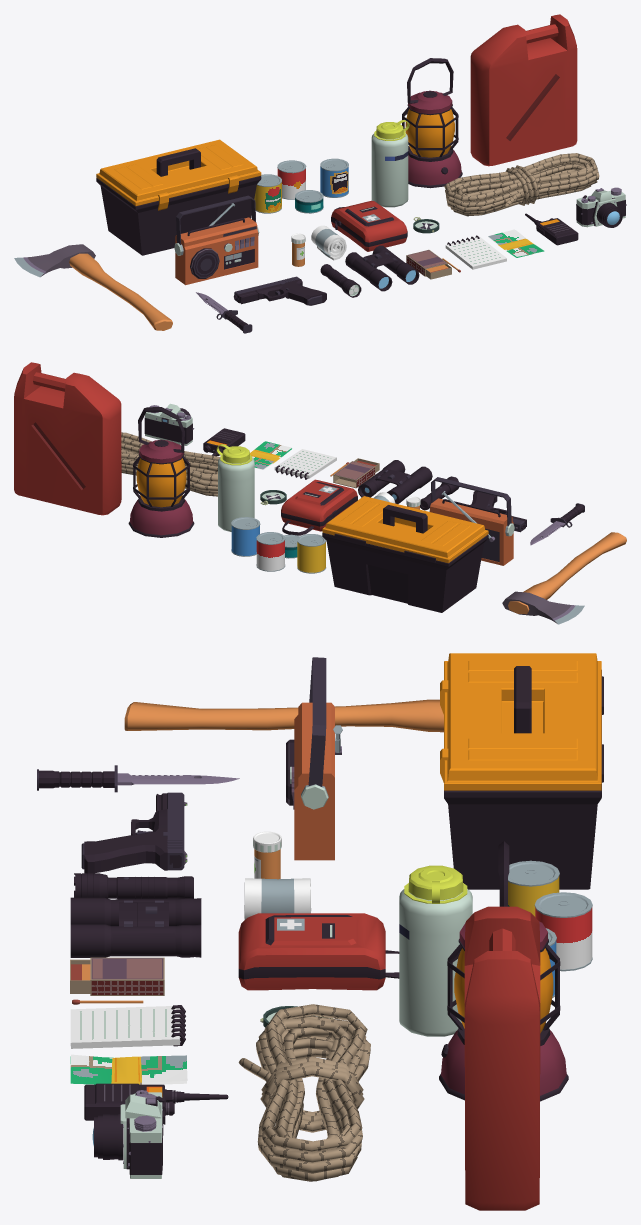
The picture shows the model from 3 angles, top to bottom: view 1: azimuth 30°, elevation 25°; view 2: azimuth 150°, elevation 25°; view 3: azimuth 270°, elevation 25°; orthographic projection. The views are drawn at different scales.
Visible parts, largest first — view 1: jerrycan.001, toolbox.001, rope.001, lantern.001, radio.001, bottle.001, axe.001, firstaidkit.001, binoculars.001, camera.001, gun.001, notebook.001 (+10 smaller); view 2: jerrycan.001, toolbox.001, lantern.001, radio.001, axe.001, bottle.001, firstaidkit.001, rope.001, binoculars.001, camera.001, notebook.001, can_soup.001 (+8 smaller); view 3: toolbox.001, jerrycan.001, rope.001, firstaidkit.001, bottle.001, radio.001, binoculars.001, axe.001, lantern.001, gun.001, camera.001, notebook.001 (+9 smaller).
Part boxes in pixels (x1,y1,x2,y2): jerrycan.001: [470, 14, 577, 166]; toolbox.001: [96, 139, 261, 255]; rope.001: [444, 153, 599, 216]; lantern.001: [402, 58, 462, 188]; radio.001: [174, 195, 259, 285]; bottle.001: [371, 120, 409, 207]; axe.001: [14, 244, 172, 330]; firstaidkit.001: [331, 200, 407, 251]; binoculars.001: [345, 245, 419, 291]; camera.001: [576, 187, 626, 227]; gun.001: [233, 276, 326, 305]; notebook.001: [445, 235, 506, 269]; jerrycan.001: [14, 362, 121, 515]; toolbox.001: [322, 496, 488, 612]; lantern.001: [128, 407, 194, 537]; radio.001: [429, 477, 514, 565]; axe.001: [502, 532, 626, 624]; bottle.001: [216, 444, 254, 531]; firstaidkit.001: [281, 479, 357, 535]; rope.001: [121, 432, 220, 496]; binoculars.001: [358, 460, 432, 503]; camera.001: [144, 403, 194, 445]; notebook.001: [274, 449, 336, 479]; can_soup.001: [256, 532, 285, 571]; toolbox.001: [440, 653, 603, 889]; jerrycan.001: [464, 906, 540, 1210]; rope.001: [238, 1004, 370, 1181]; firstaidkit.001: [238, 913, 399, 990]; bottle.001: [399, 865, 472, 1036]; radio.001: [286, 657, 342, 860]; binoculars.001: [70, 897, 201, 957]; axe.001: [124, 699, 443, 732]; lantern.001: [439, 841, 568, 1101]; gun.001: [81, 792, 187, 873]; camera.001: [92, 1090, 165, 1178]; notebook.001: [70, 1005, 185, 1048].
Bounding box in the file's own units: 1.88 × 0.4205 × 0.8398.
1 material, 1 textured.
